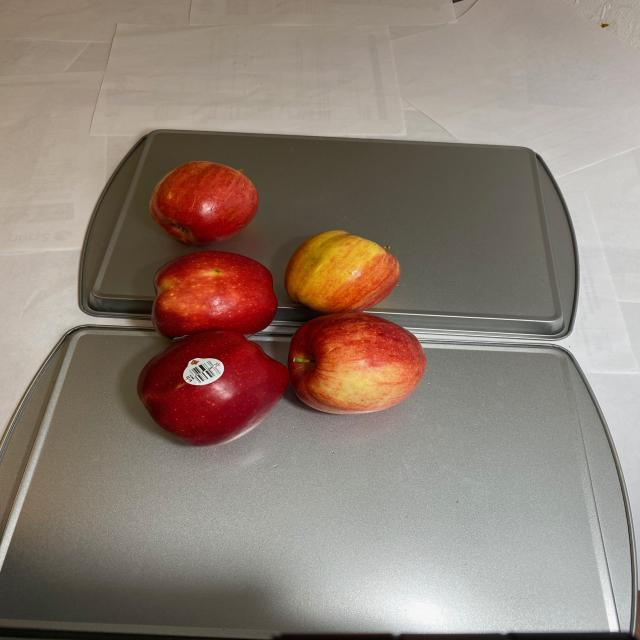apple: (138, 159, 428, 449)
